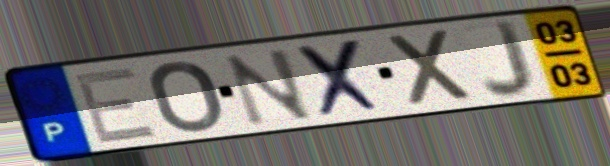E: (69, 64, 162, 147)
J: (479, 17, 539, 101)
N: (221, 45, 318, 129)
O: (146, 58, 227, 135)
X: (292, 36, 389, 122), (383, 26, 480, 111)
